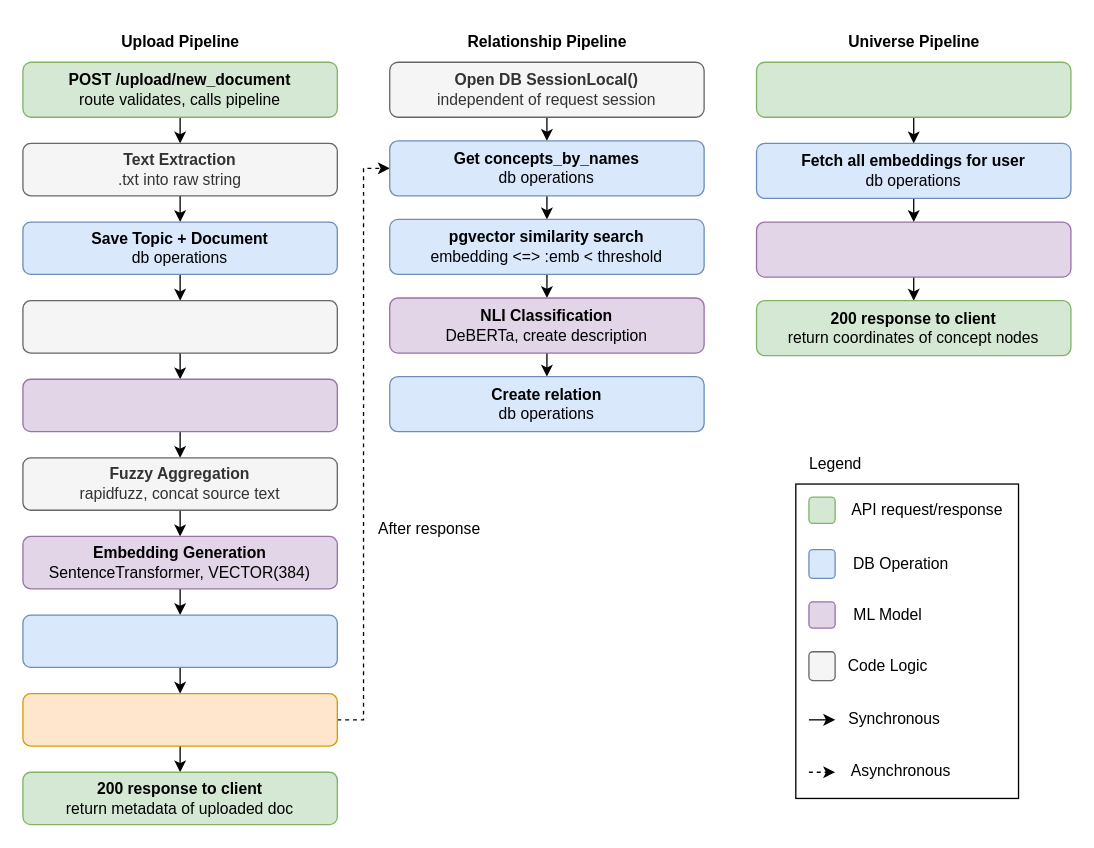
Image size: 1094x848. Some labels were removed from this diagram. Here are the shapes that lost their labels. From the top down, the centre of each, then its label:
point 913,89: GET /universe/nodes?dimensions=k route validates, calls pipeline
point 913,249: PCA fit transform embeddings become relative coordinates
point 179,326: Semantic Chunking 1000 chars, 200 overlap
point 179,405: LLM Concept Extraction per chunk into JSON {name, description}
point 179,640: Batch Insert to DB db operations
point 179,719: Schedule BackgroundTask pass concept names
